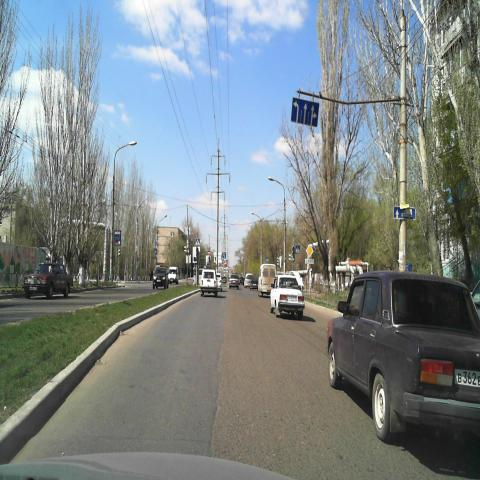6_15_1: (393, 205, 416, 219)
